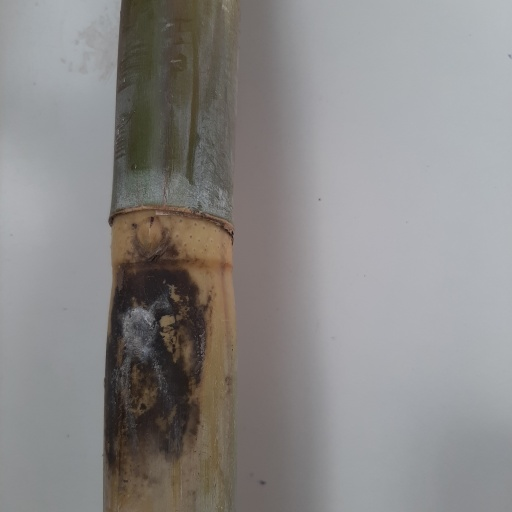Bud: (133, 216, 168, 259)
